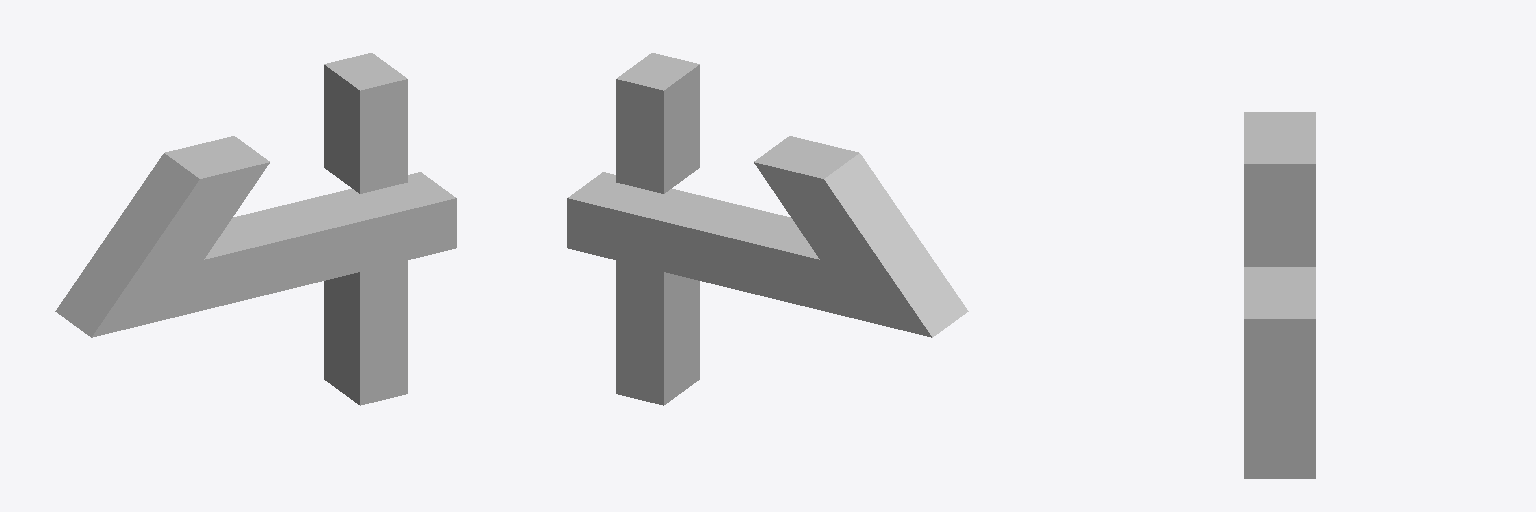
Rendered from four.obj.
3 views of the same model, side by side, from view 1: azimuth 30°, elevation 25°; view 2: azimuth 150°, elevation 25°; view 3: azimuth 270°, elevation 25° (orthographic).
Visible parts, largest first — view 1: Cube.009_Cube.010; view 2: Cube.009_Cube.010; view 3: Cube.009_Cube.010.
Part boxes in pixels (bbox=[...]): Cube.009_Cube.010: bbox=[55, 53, 456, 405]; Cube.009_Cube.010: bbox=[567, 53, 968, 405]; Cube.009_Cube.010: bbox=[1244, 112, 1315, 478].
Size of the model in its own units: 0.5848 by 0.4821 by 0.1.